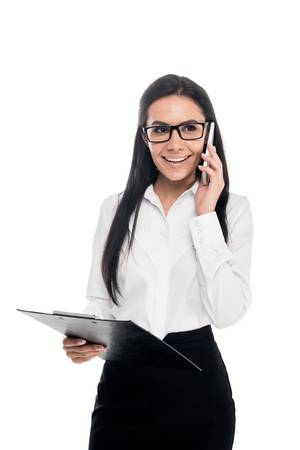F_shirt: (75, 181, 253, 343)
F_tailored skirt: (85, 322, 237, 450)
